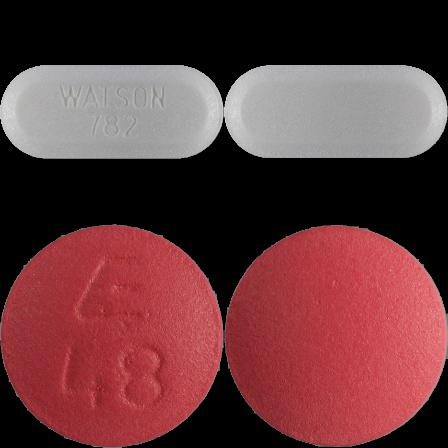21695-876: (0, 0, 224, 224)
